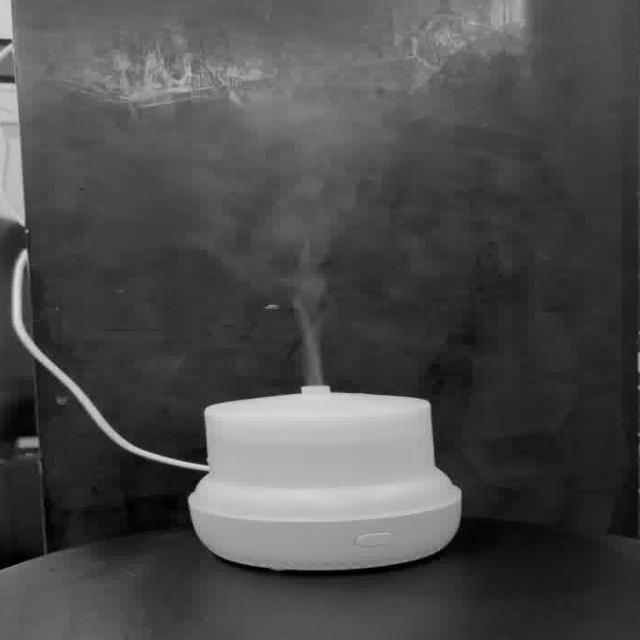fire: (182, 87, 400, 380)
